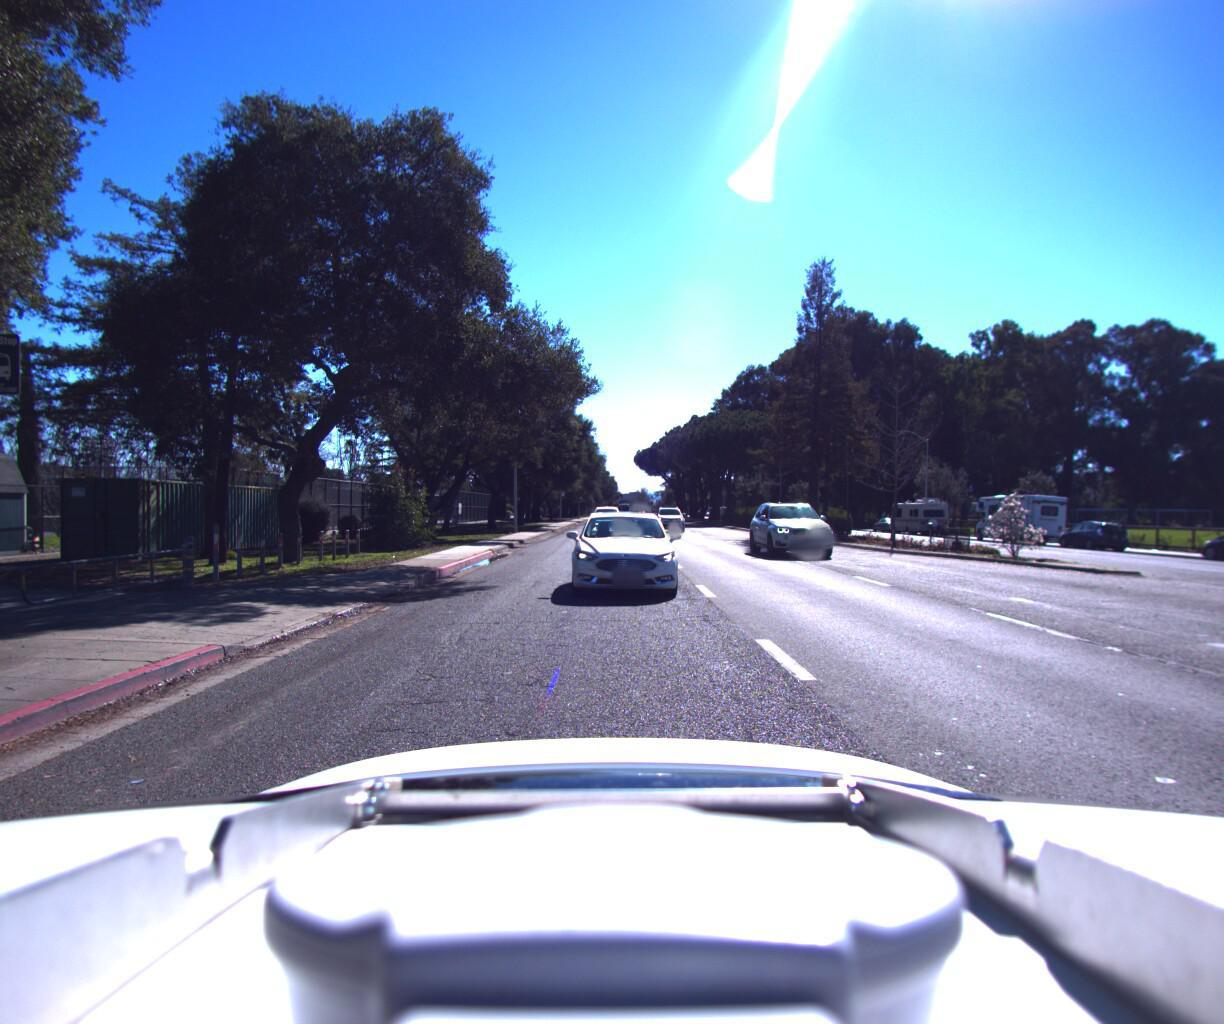car: (560, 503, 687, 610), (755, 494, 857, 560), (1053, 518, 1137, 549), (1189, 524, 1224, 565), (653, 503, 688, 532)
other_vehicle: (966, 485, 1070, 546), (885, 491, 953, 533)
